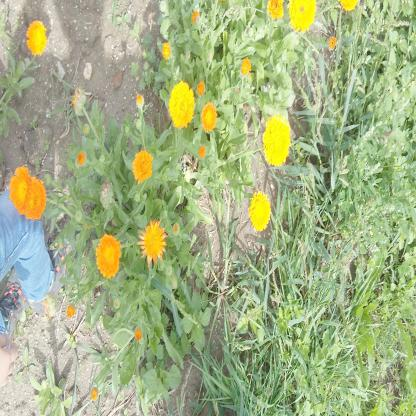marigold: (264, 117, 289, 164), (97, 237, 120, 278), (25, 178, 46, 221), (170, 86, 192, 125), (12, 170, 31, 212), (290, 0, 316, 28), (250, 193, 269, 229), (26, 22, 45, 54), (134, 151, 150, 182)
